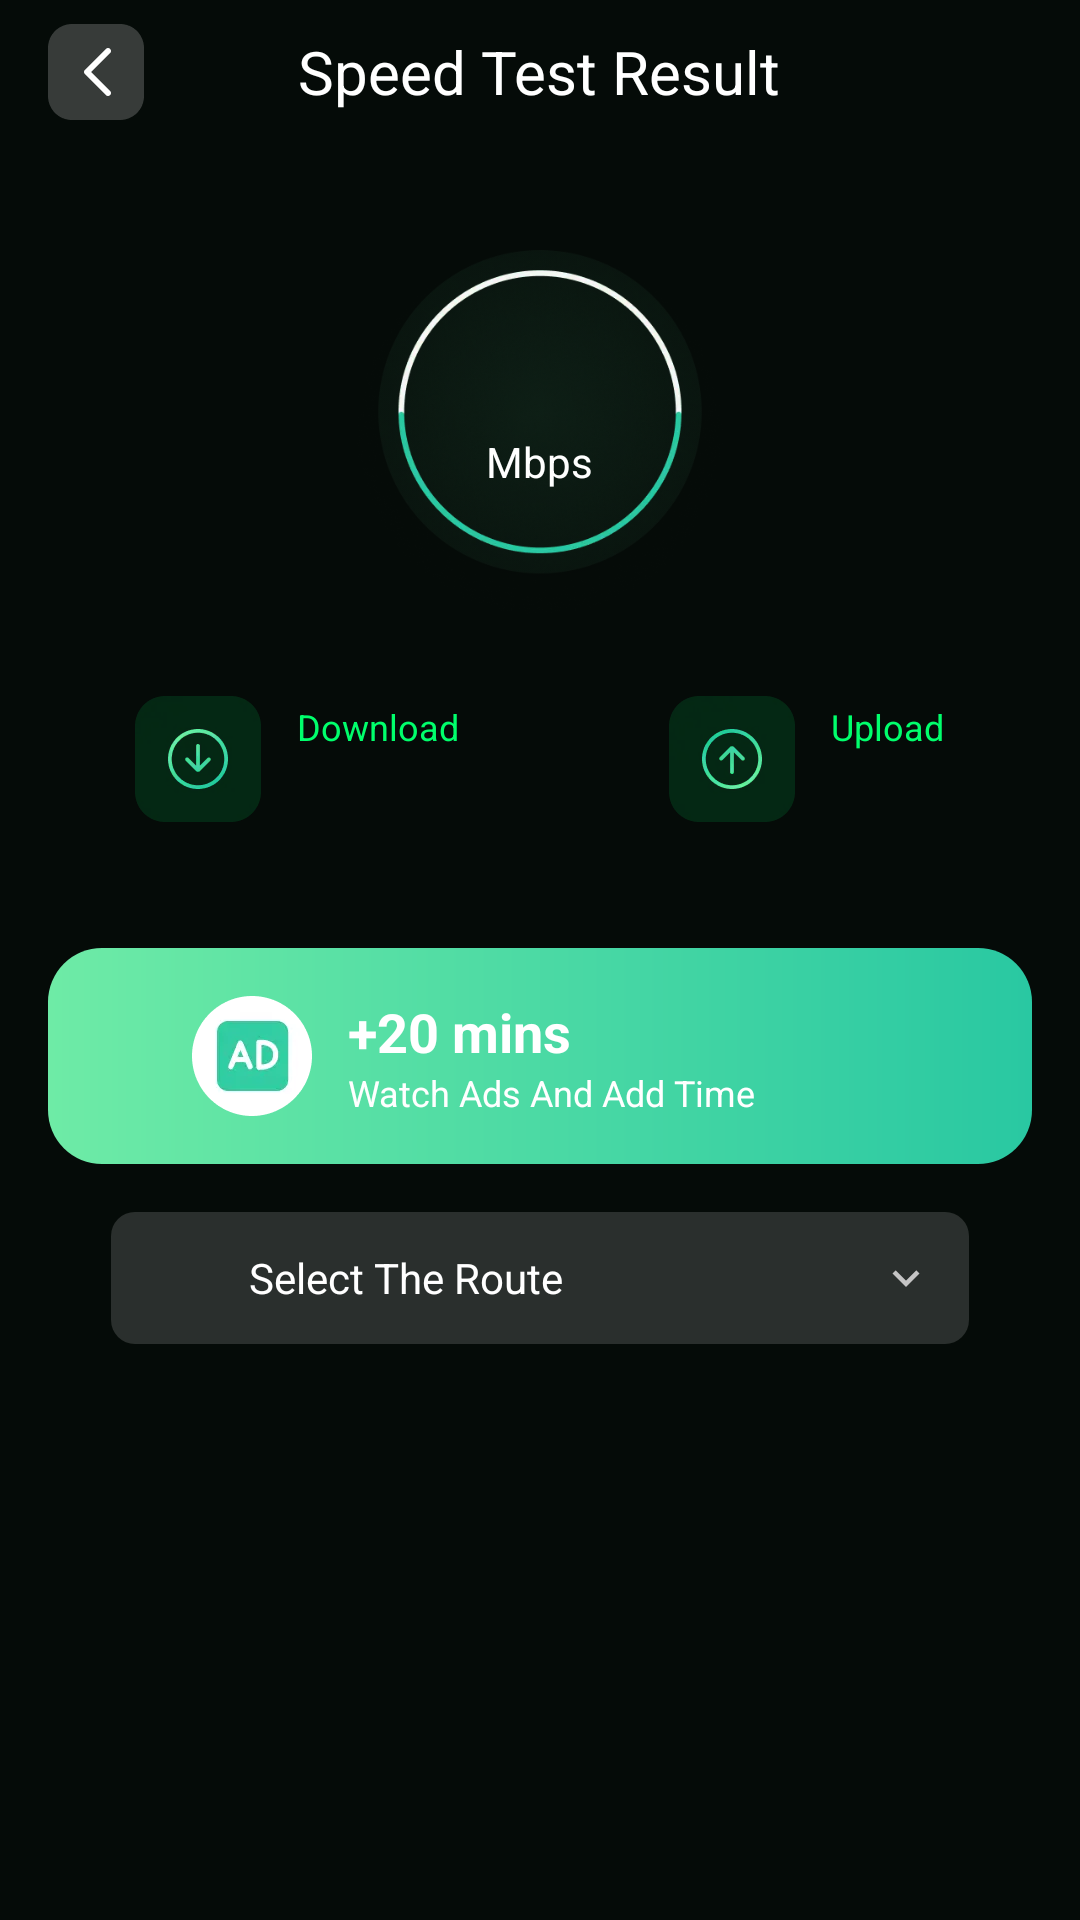

Icon click points for this 1080×1920 phone screenshot, format [x,y]:
back: [96,72]
down arrow: [906,1278]
